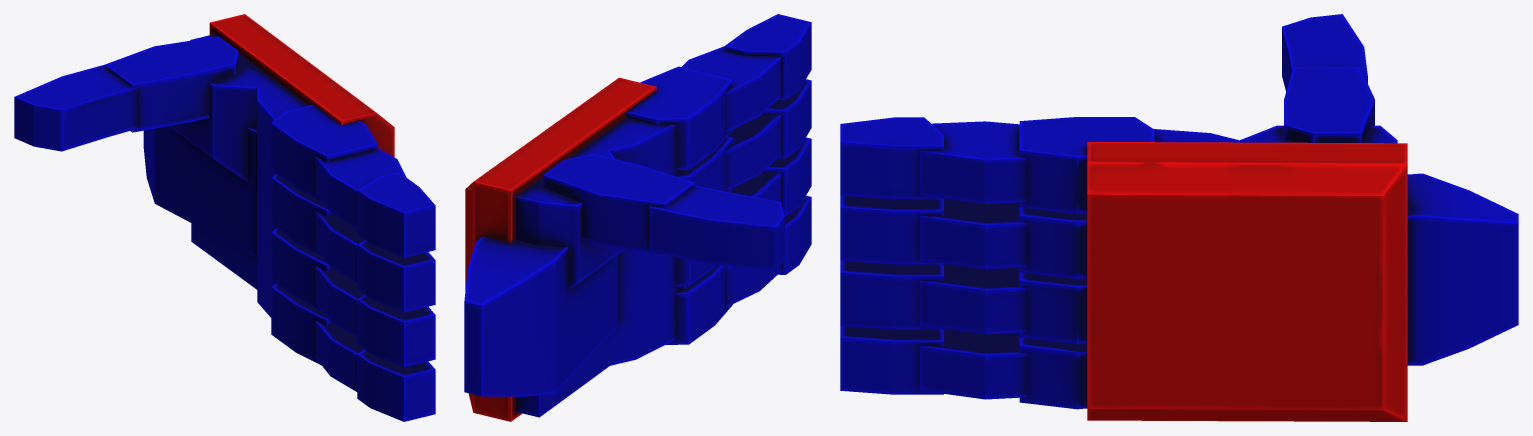
The model's file is stormcellhand.glb.
3 views of the same model, side by side, from view 1: azimuth 30°, elevation 25°; view 2: azimuth 150°, elevation 25°; view 3: azimuth 270°, elevation 25° (orthographic). The views are drawn at different scales.
Visible parts, largest first — view 1: Cube.006; view 2: Cube.006; view 3: Cube.006.
Part boxes in pixels (x1,y1,x2,y2): Cube.006: (14, 14, 435, 421); Cube.006: (464, 14, 811, 421); Cube.006: (840, 14, 1518, 421).
Size of the model in its own units: 0.0227 by 0.0173 by 0.0407.
1 material, 1 textured.
